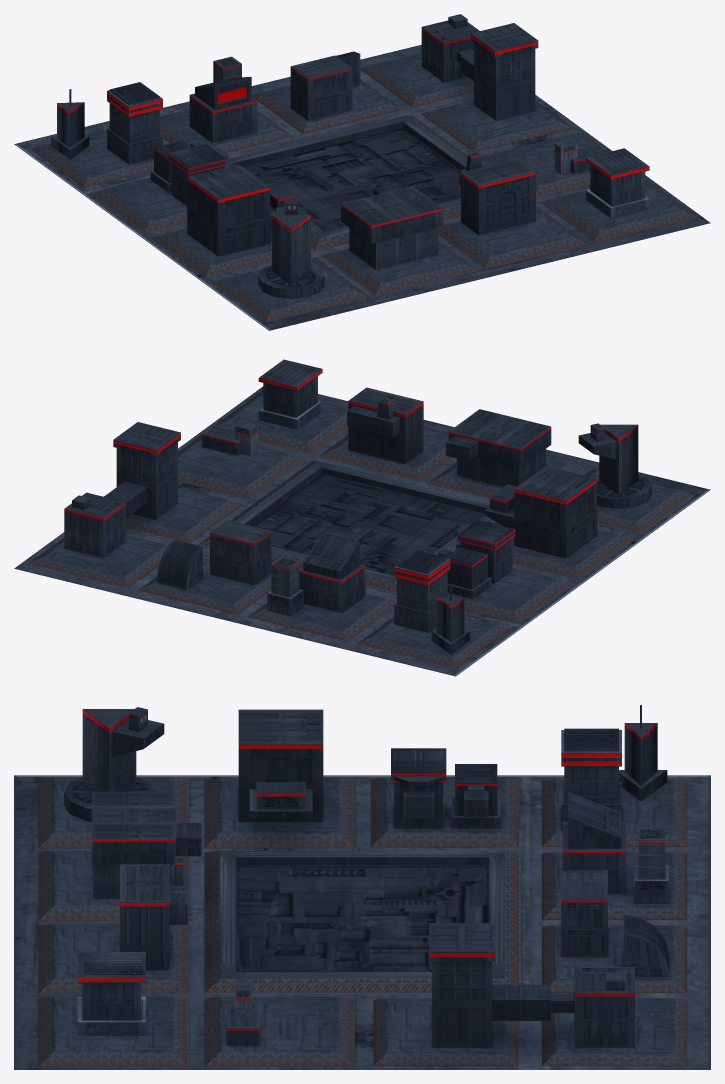
The model's file is CityBlock4_Model.FBX.
3 views of the same model, one above another, from view 1: azimuth 30°, elevation 25°; view 2: azimuth 150°, elevation 25°; view 3: azimuth 270°, elevation 25° (orthographic). The views are drawn at different scales.
Visible parts, largest first — view 1: polySurface03; view 2: polySurface03; view 3: polySurface03.
Part boxes in pixels (bbox=[...]): polySurface03: bbox=[14, 14, 710, 330]; polySurface03: bbox=[14, 359, 710, 676]; polySurface03: bbox=[14, 705, 710, 1069].
Bounding box in the file's own units: 43.8 × 7.69 × 43.8.
Materials: 1 (1 with a texture image).
